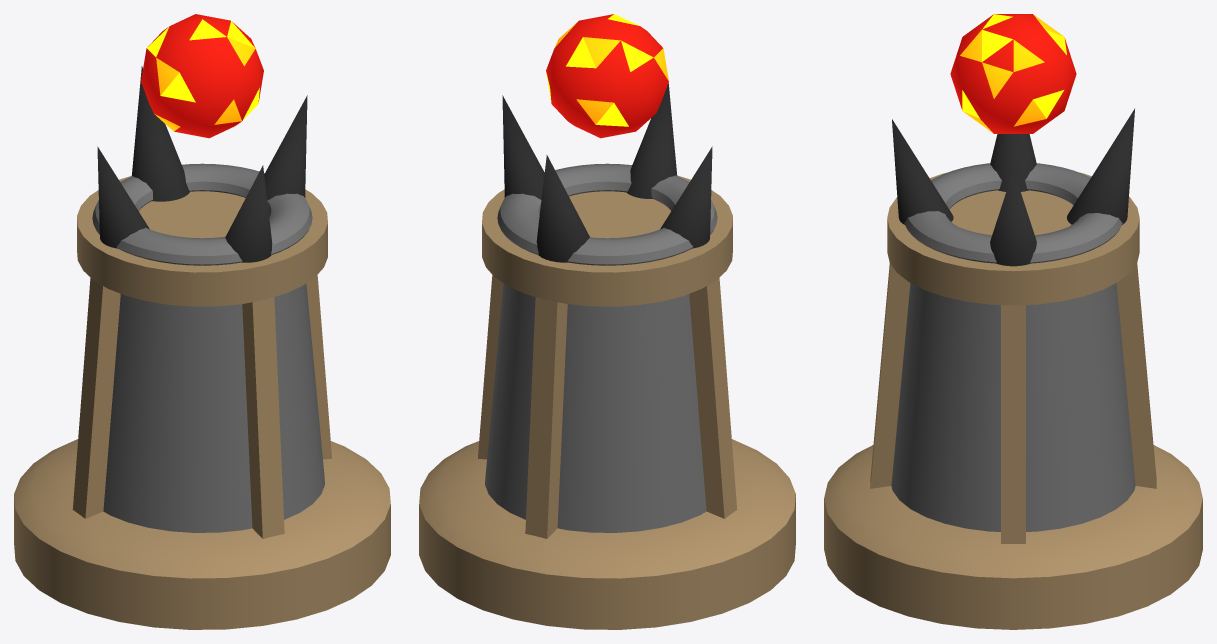
The model's file is torre2_1.fbx.
The picture shows the model from 3 angles, left to right: view 1: azimuth 30°, elevation 25°; view 2: azimuth 150°, elevation 25°; view 3: azimuth 270°, elevation 25°; orthographic projection.
Visible parts, largest first — view 1: Cylinder.001; view 2: Cylinder.001; view 3: Cylinder.001.
Part boxes in pixels (x1,y1,x2,y2): Cylinder.001: (14, 14, 390, 629); Cylinder.001: (419, 14, 795, 629); Cylinder.001: (824, 14, 1202, 629).
Bounding box in the file's own units: 600 × 932 × 600.
